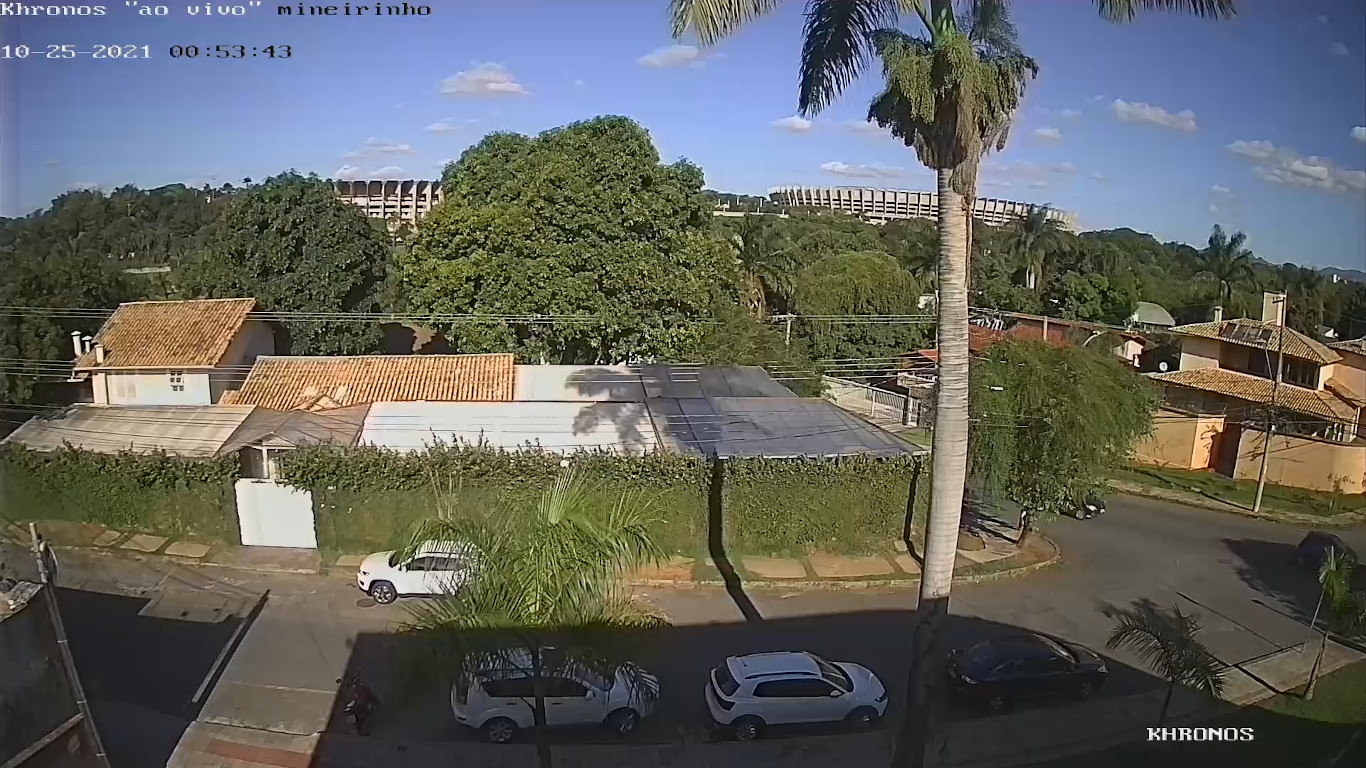car: (446, 643, 660, 743), (699, 648, 890, 739), (941, 630, 1112, 717), (356, 538, 493, 607)
